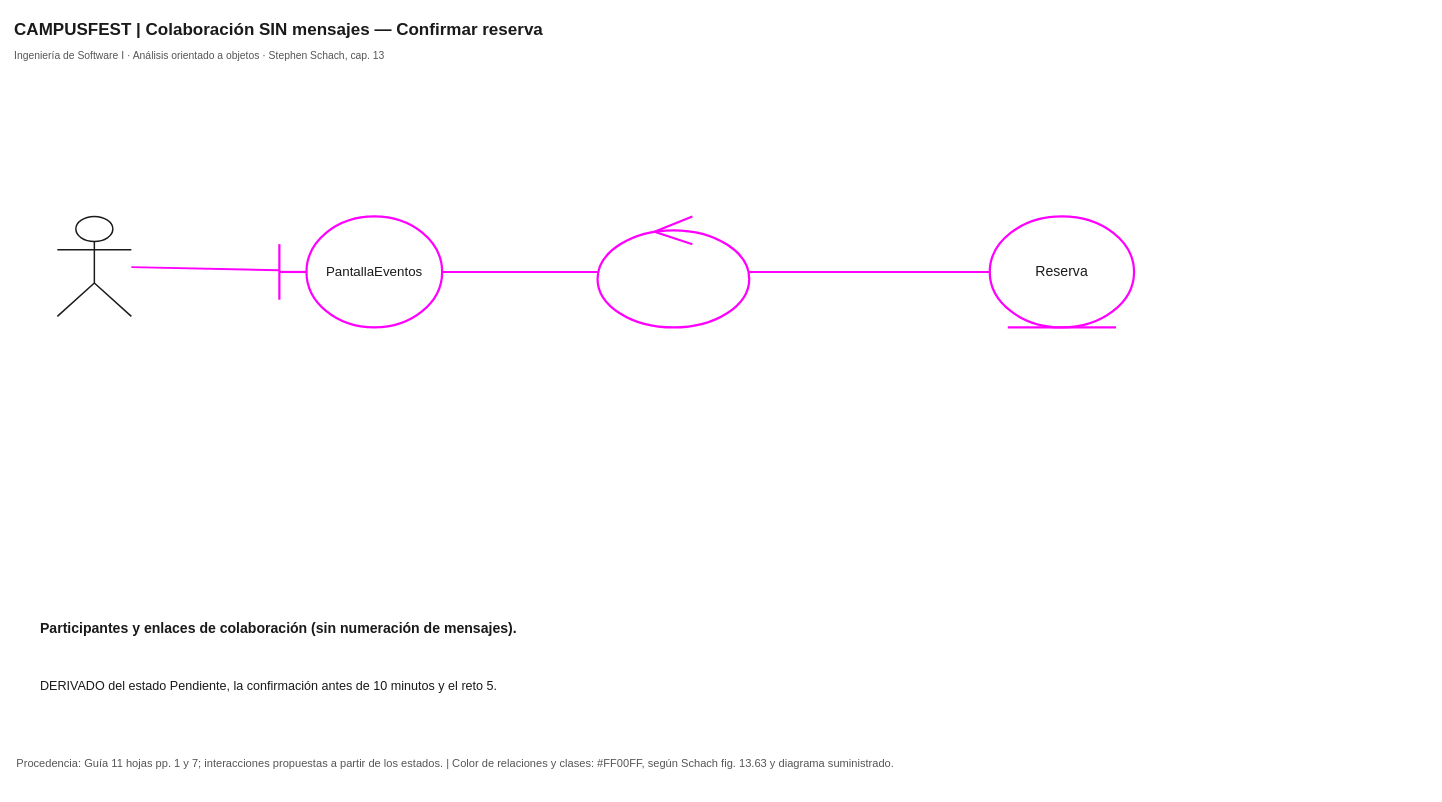
Image size: 1442x802. Some labels were removed from this diagram. The centre of each missing label's shape, as x and y in pixels:
"Estudiante" belongs at pixel 94 266.
"GestiónReserva" belongs at pixel 673 271.
